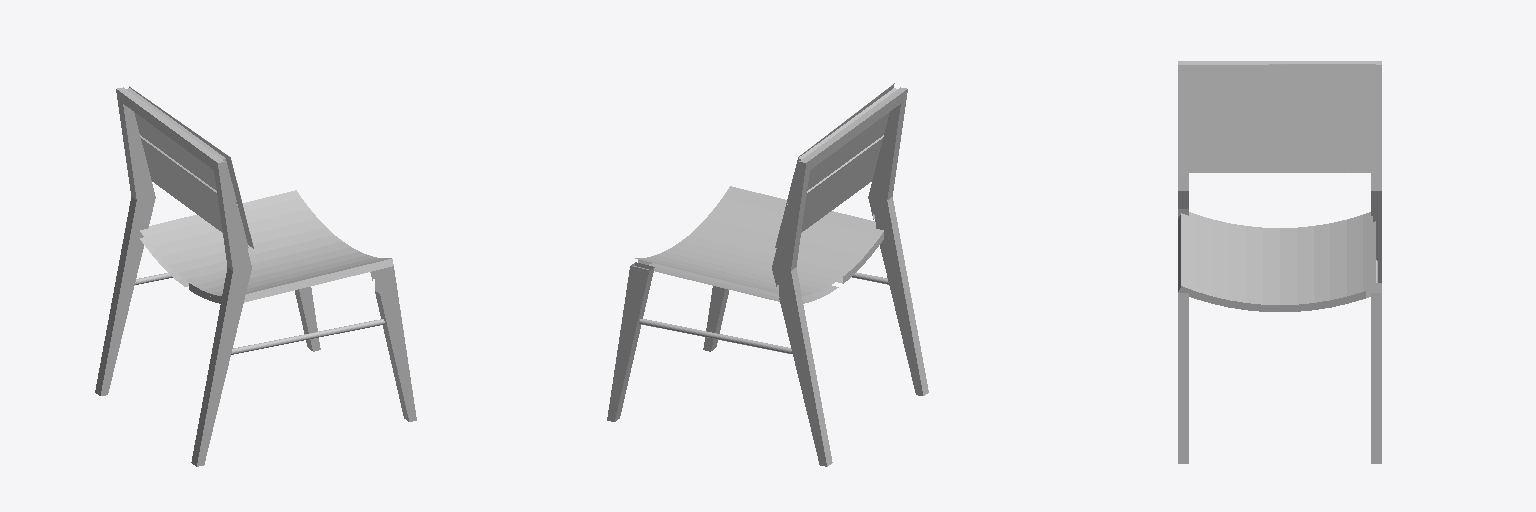
File: chair__.obj
The picture shows the model from 3 angles: view 1: azimuth 30°, elevation 25°; view 2: azimuth 150°, elevation 25°; view 3: azimuth 270°, elevation 25°; orthographic projection.
Parts seen in each view (by area): view 1: Group_002, Layer0_001, Group_001, placa_couro_pespontado_001; view 2: Group_002, Layer0_001, Group_001; view 3: placa_couro_pespontado_001, Layer0_001, Group_001, Group_002.
Boxes of the visible parts, <box> form: Group_002: <box>95,87,251,466</box>; Layer0_001: <box>135,190,393,354</box>; Group_001: <box>295,266,416,421</box>; placa_couro_pespontado_001: <box>129,86,253,248</box>; Group_002: <box>772,87,928,466</box>; Layer0_001: <box>634,186,888,353</box>; Group_001: <box>607,262,728,421</box>; placa_couro_pespontado_001: <box>1179,64,1375,172</box>; Layer0_001: <box>1178,212,1377,311</box>; Group_001: <box>1178,283,1381,463</box>; Group_002: <box>1178,61,1381,282</box>.
Bounding box in the file's own units: 22.94 × 30.68 × 18.35.